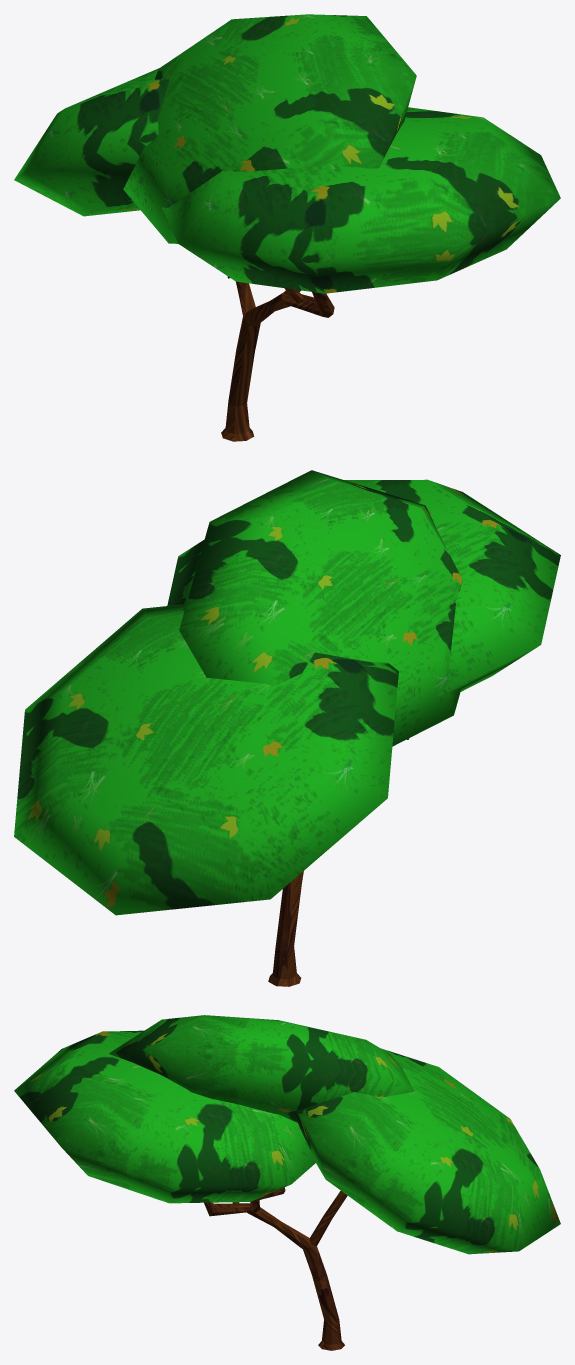
File: Park Tree.FBX
3 views of the same model, one above another, from view 1: azimuth 30°, elevation 25°; view 2: azimuth 150°, elevation 25°; view 3: azimuth 270°, elevation 25° (orthographic). The views are drawn at different scales.
Parts seen in each view (by area): view 1: Sphere002, Sphere003, Sphere001, Cylinder001; view 2: Sphere001, Sphere003, Sphere002, Cylinder001; view 3: Sphere001, Sphere002, Sphere003, Cylinder001.
Boxes of the visible parts, x1,y1,x2,y2 form: Sphere002: [161, 107, 560, 293]; Sphere003: [123, 14, 416, 243]; Sphere001: [14, 68, 169, 216]; Cylinder001: [221, 276, 334, 441]; Sphere001: [14, 604, 398, 915]; Sphere003: [179, 470, 462, 746]; Sphere002: [167, 479, 560, 698]; Cylinder001: [268, 738, 409, 986]; Sphere001: [296, 1048, 560, 1254]; Sphere002: [14, 1030, 315, 1203]; Sphere003: [109, 1015, 414, 1122]; Cylinder001: [204, 1187, 347, 1350].
Bounding box in the file's own units: 415 × 472 × 688.
Materials: 2 (2 with a texture image).
